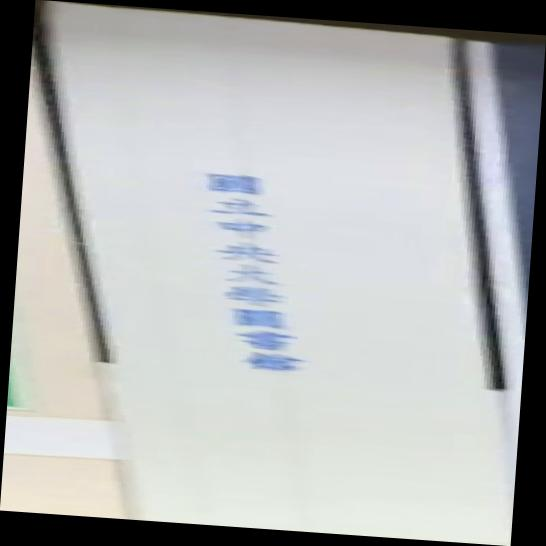backward: (1, 1, 544, 546)
